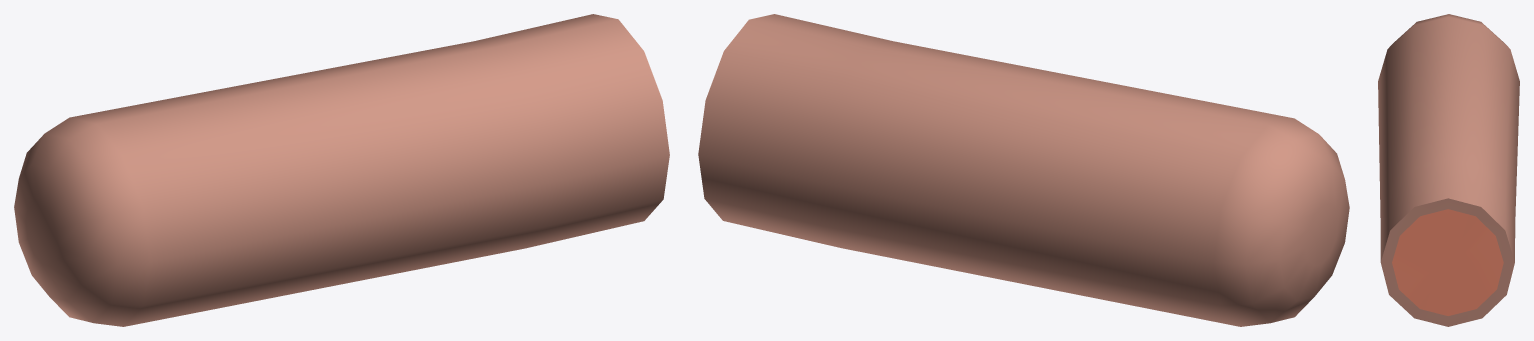
Rendered from Sausage_half.007.fbx.
3 views of the same model, side by side, from view 1: azimuth 30°, elevation 25°; view 2: azimuth 150°, elevation 25°; view 3: azimuth 270°, elevation 25° (orthographic). The views are drawn at different scales.
Parts seen in each view (by area): view 1: Sausage_half.007; view 2: Sausage_half.007; view 3: Sausage_half.007.
Part boxes in pixels (x1=…): Sausage_half.007: x1=14, y1=14, x2=669, y2=326; Sausage_half.007: x1=698, y1=14, x2=1349, y2=326; Sausage_half.007: x1=1378, y1=14, x2=1519, y2=326.
Bounding box in the file's own units: 79.77 × 25.95 × 28.84.
